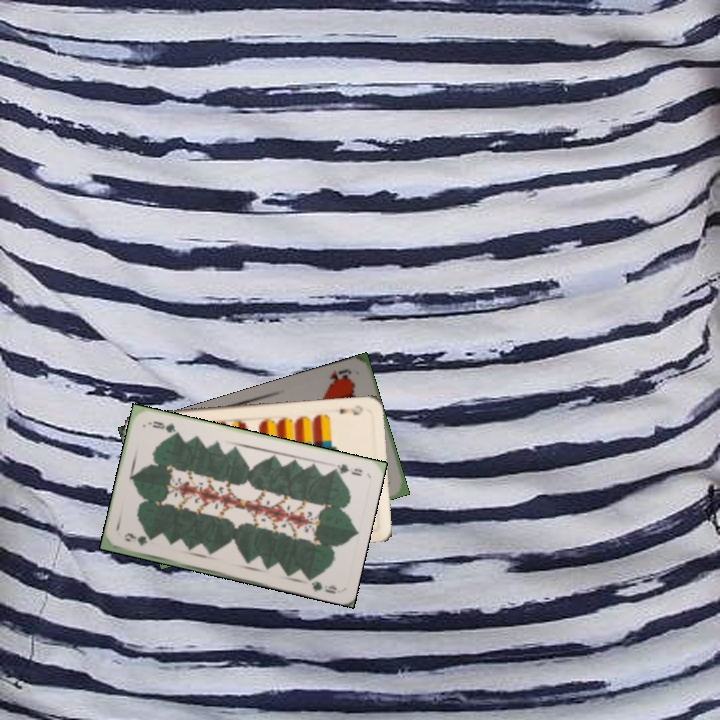E9: (336, 401, 365, 417)
G9: (327, 460, 365, 479), (120, 530, 150, 548)
HO: (325, 365, 354, 387)
